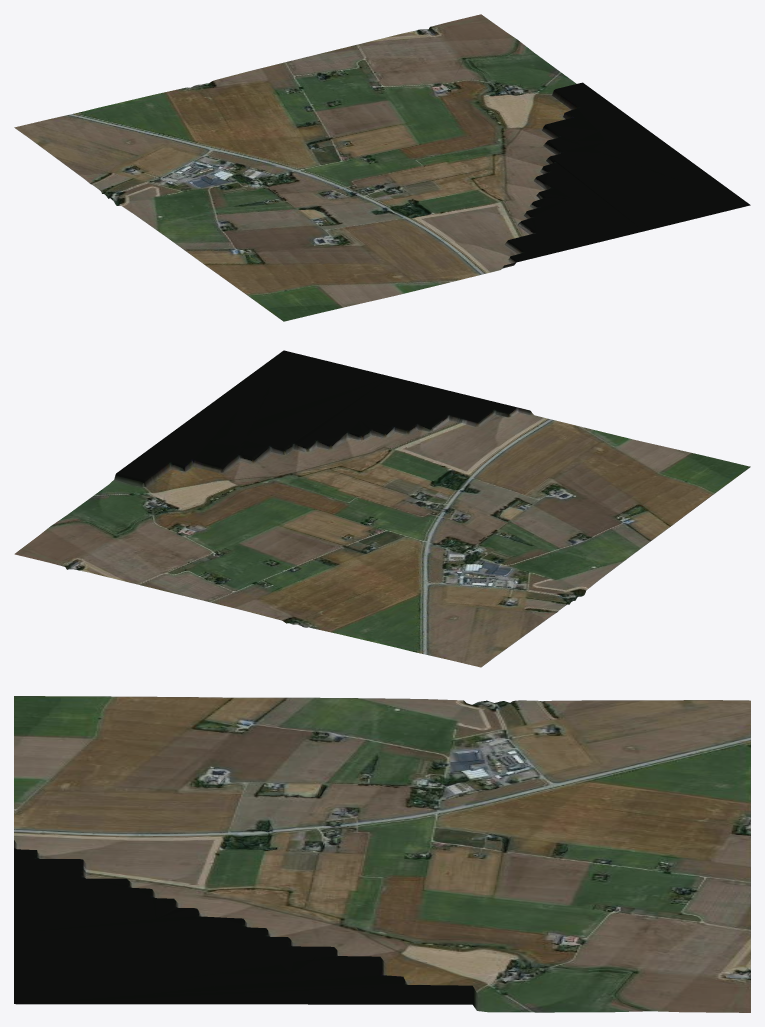
Rendered from map_10_257_429.dae.
3 renders of one model, top to bottom at view 1: azimuth 30°, elevation 25°; view 2: azimuth 150°, elevation 25°; view 3: azimuth 270°, elevation 25°, orthographic. The views are drawn at different scales.
Parts seen in each view (by area): view 1: Ter0; view 2: Ter0; view 3: Ter0.
Boxes of the visible parts, bbox=[...] form: Ter0: bbox=[14, 14, 750, 321]; Ter0: bbox=[14, 350, 750, 667]; Ter0: bbox=[14, 696, 750, 1012].
Bounding box in the file's own units: 2044 × 2044 × 39.9.
Materials: 3 (3 with a texture image).
